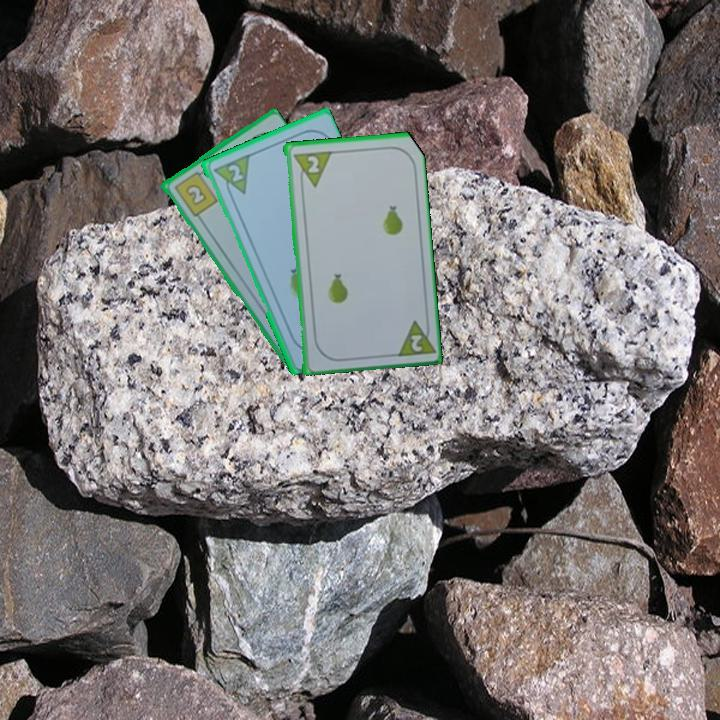2b: (170, 166, 220, 219)
2p: (391, 315, 436, 359), (224, 160, 246, 185), (302, 152, 322, 176)
